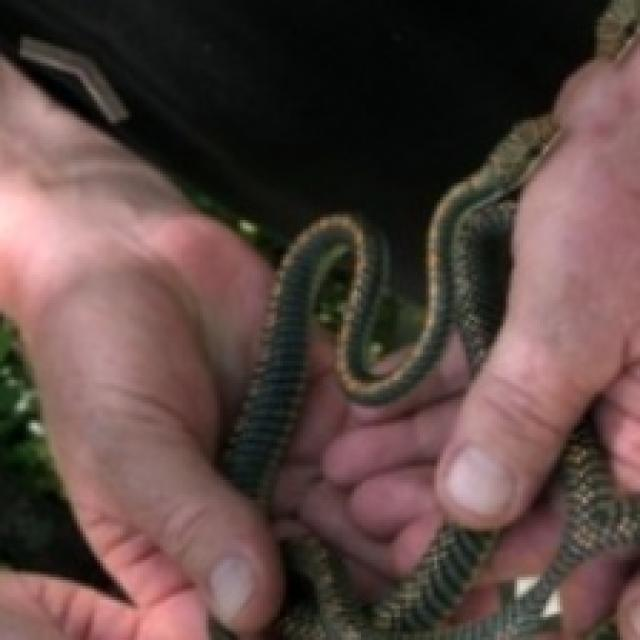paradise tree snake: (223, 0, 637, 520), (271, 351, 637, 637), (534, 143, 637, 371)
